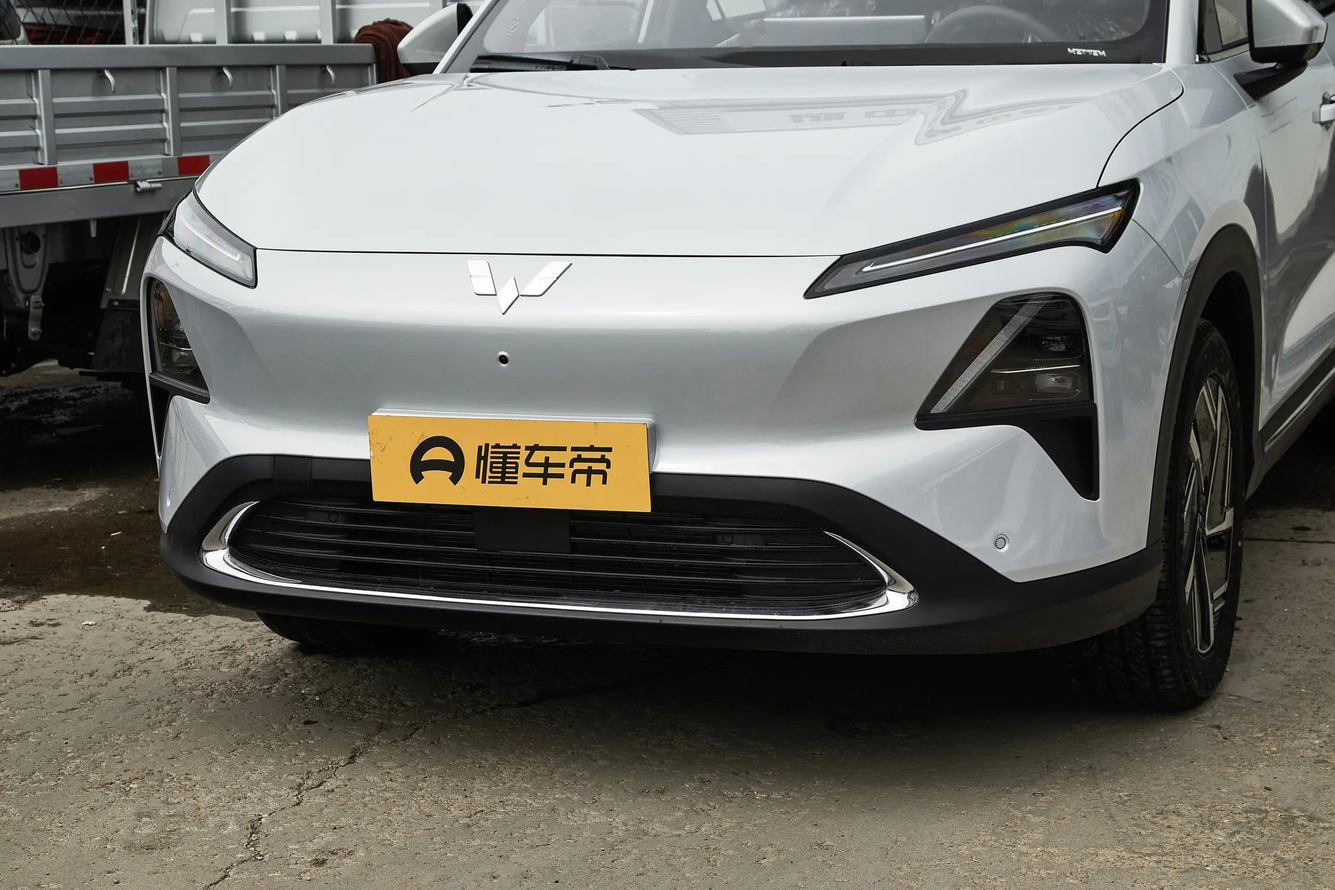SGMW: (467, 260, 572, 314)
